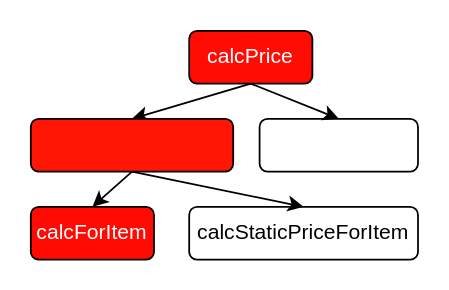
The diagram is 449 pixels wide and 290 high, and some of its shapes have lost their labels. The shapes that lost their labels are listed below. From the top down, each one's centre as x and y in pixels, then its label:
At point (131, 144): "calcPriceForItems".
At point (338, 144): "calcStaticPrice".
